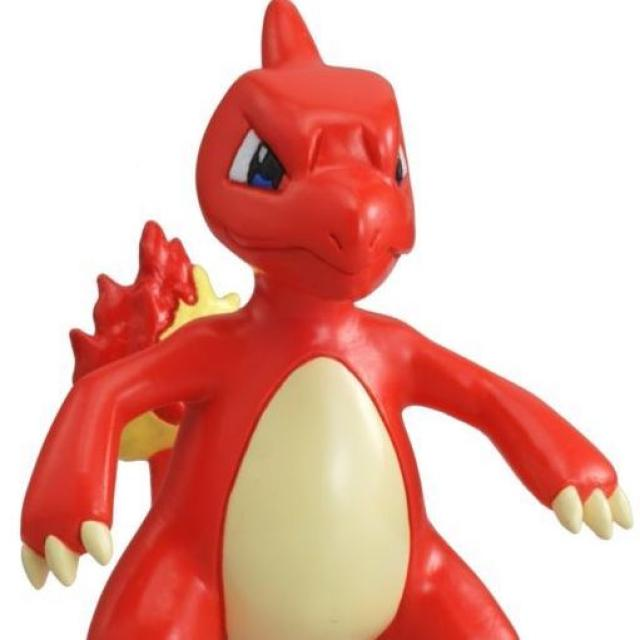Charmeleon: (63, 3, 514, 640)
